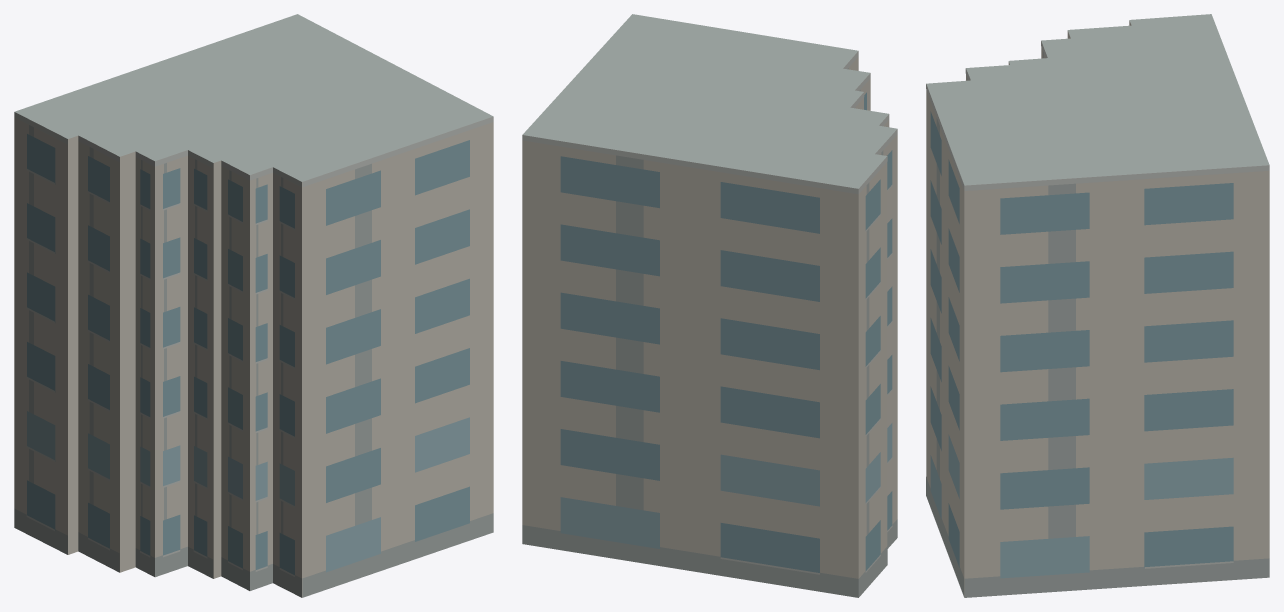
File: survey-upis-32971886.glb
3 views of the same model, side by side, from view 1: azimuth 30°, elevation 25°; view 2: azimuth 150°, elevation 25°; view 3: azimuth 270°, elevation 25° (orthographic).
Parts seen in each view (by area): view 1: survey-upis-32971886.tmp; view 2: survey-upis-32971886.tmp; view 3: survey-upis-32971886.tmp.
Boxes of the visible parts, left/top/right/bottom form: survey-upis-32971886.tmp: left=14, top=14, right=493, bottom=597; survey-upis-32971886.tmp: left=522, top=14, right=897, bottom=597; survey-upis-32971886.tmp: left=926, top=14, right=1269, bottom=597.
Size of the model in its own units: 16.34 by 18.3 by 13.83.
